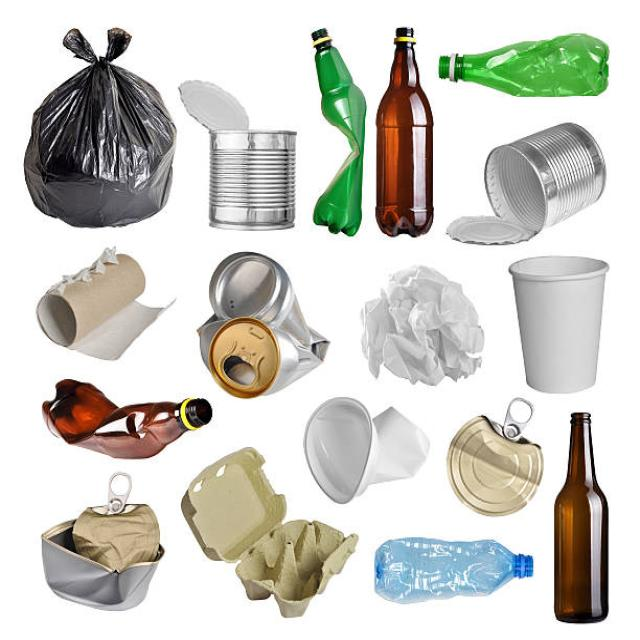cardboard: (182, 477, 359, 620), (29, 253, 164, 355)
metal: (442, 120, 624, 241), (181, 80, 305, 228), (205, 248, 324, 392), (42, 478, 160, 610), (445, 402, 548, 513)
paper: (357, 284, 483, 392)
plastic: (306, 25, 438, 233), (45, 378, 210, 460), (377, 536, 538, 596)
trash: (15, 23, 172, 238)
